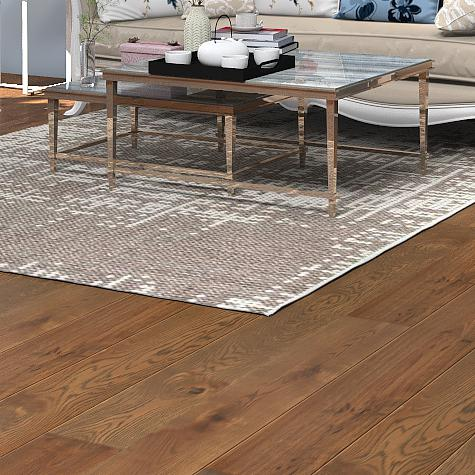table: (105, 38, 428, 206), (43, 68, 307, 179)
